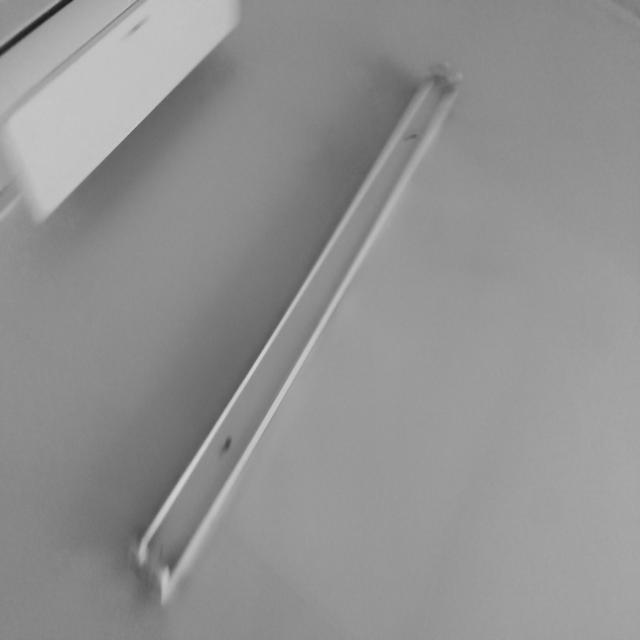light: (128, 59, 466, 606)
